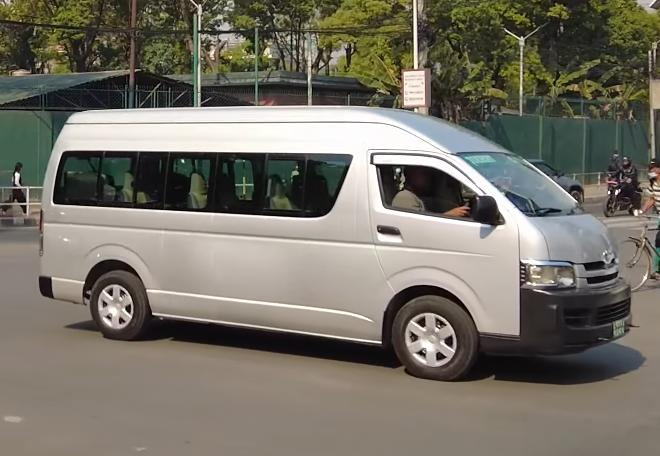bike: (603, 172, 644, 218)
micro_bus: (36, 98, 635, 383)
